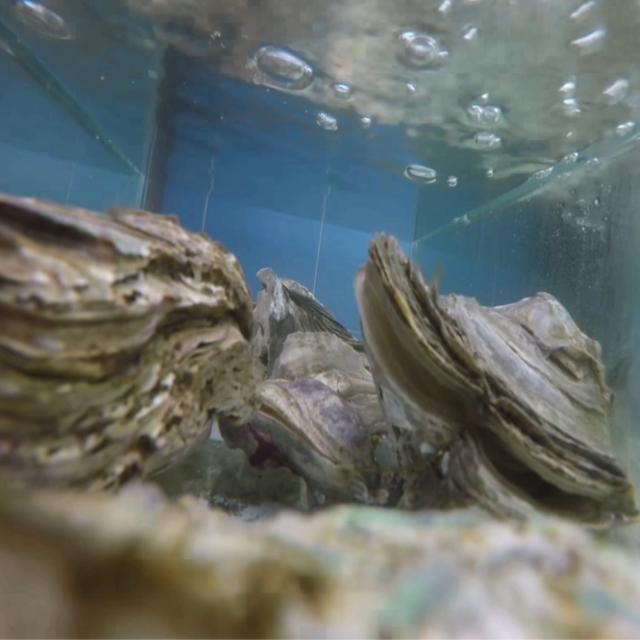Oyster-Closed: (0, 193, 256, 522), (249, 332, 409, 510)
Oyster-Indeterminate: (0, 479, 640, 640)
Oyster-Open: (355, 232, 640, 544)
